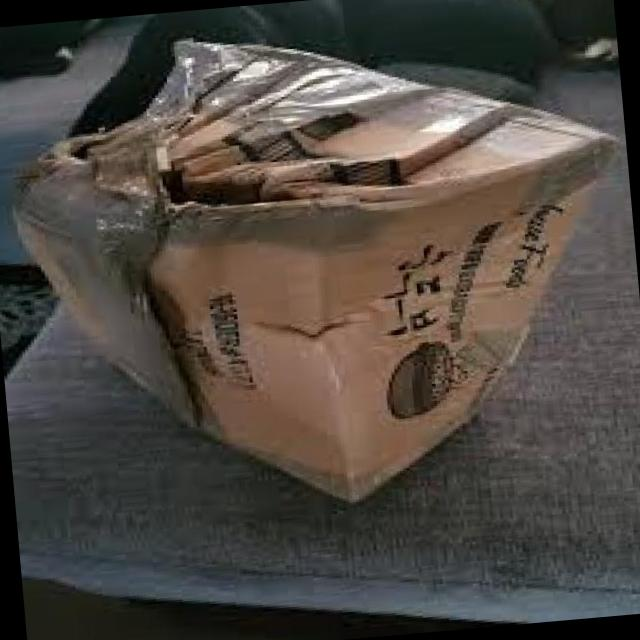crushed: (14, 39, 616, 504)
